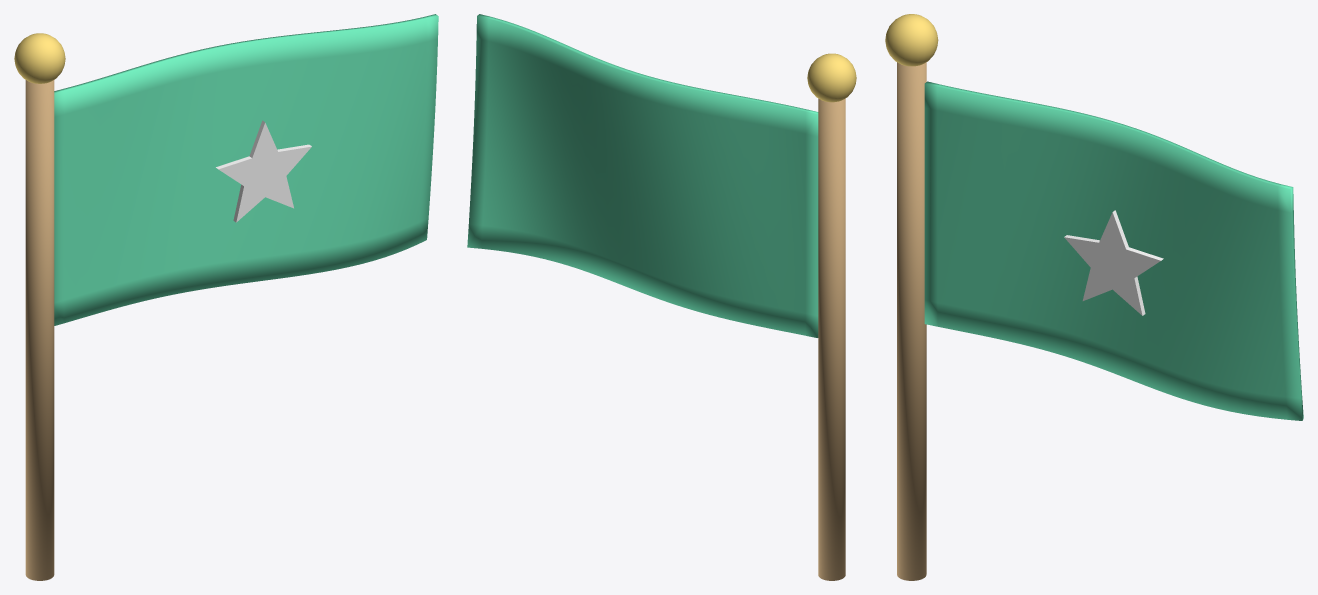
The model's file is cat-banner.glb.
3 views of the same model, side by side, from view 1: azimuth 30°, elevation 25°; view 2: azimuth 150°, elevation 25°; view 3: azimuth 330°, elevation 25° (orthographic). The views are drawn at different scales.
Parts seen in each view (by area): view 1: cloth, Cylinder, poly, Sphere; view 2: cloth, Cylinder, Sphere; view 3: cloth, Cylinder, poly, Sphere.
Part boxes in pixels (x1,y1,x2,y2): cloth: [54, 14, 438, 325]; Cylinder: [25, 80, 54, 580]; poly: [216, 120, 311, 222]; Sphere: [14, 33, 65, 83]; cloth: [467, 14, 818, 337]; Cylinder: [818, 98, 845, 580]; Sphere: [807, 53, 856, 102]; cloth: [924, 81, 1303, 420]; Cylinder: [897, 62, 926, 580]; poly: [1064, 210, 1163, 315]; Sphere: [885, 14, 938, 66].
Bounding box in the file's own units: 1.29 × 1.65 × 0.1617.
